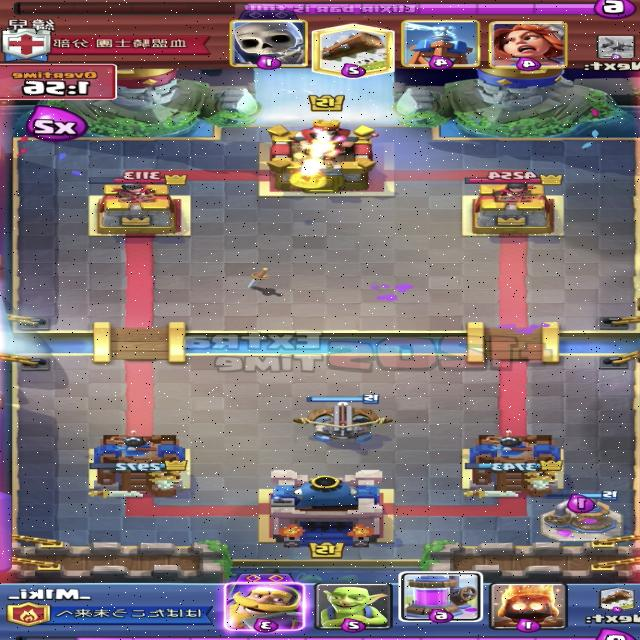Enemy-Fireball: (285, 158, 335, 189)
Player-ElixirPump: (538, 490, 625, 542)
Player-XBow: (291, 393, 392, 442)
